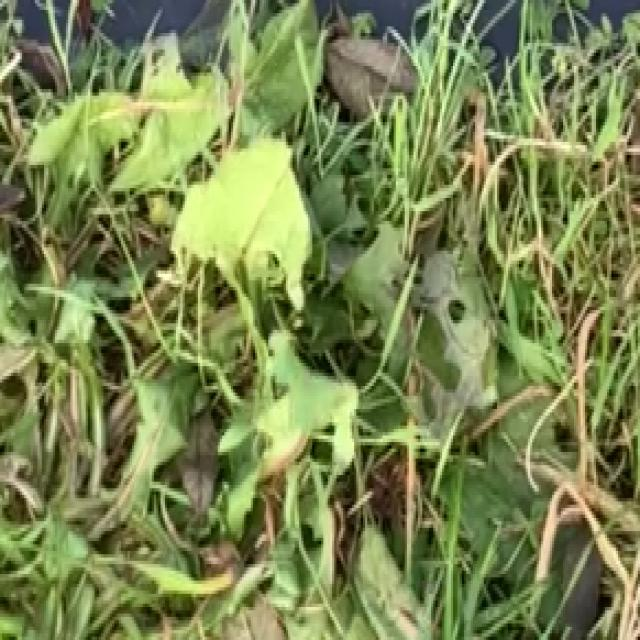organic waste: (66, 10, 418, 528)
